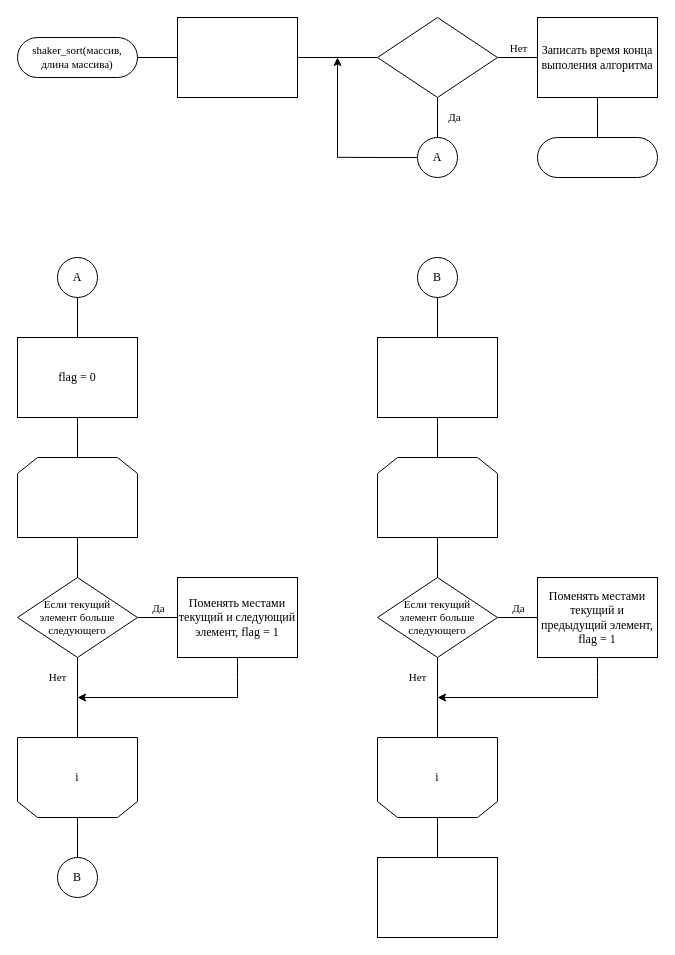
The diagram is 675 pixels wide and 955 high, and some of its shapes have lost their labels. Each missing label, with the box of its shape:
i = left, пока i < right, увеличивать i: (16, 456, 138, 538)
i = right, пока i > left, уменьшать i: (376, 456, 498, 538)
left++: (376, 856, 498, 938)
right--: (376, 336, 498, 418)
Вернтуть массив: (536, 136, 658, 178)
Если left < right и flag > 0: (376, 16, 498, 98)
Записать время начала выполения алгоритма, left = 0; right = q - 1, flag = 1: (176, 16, 298, 98)
